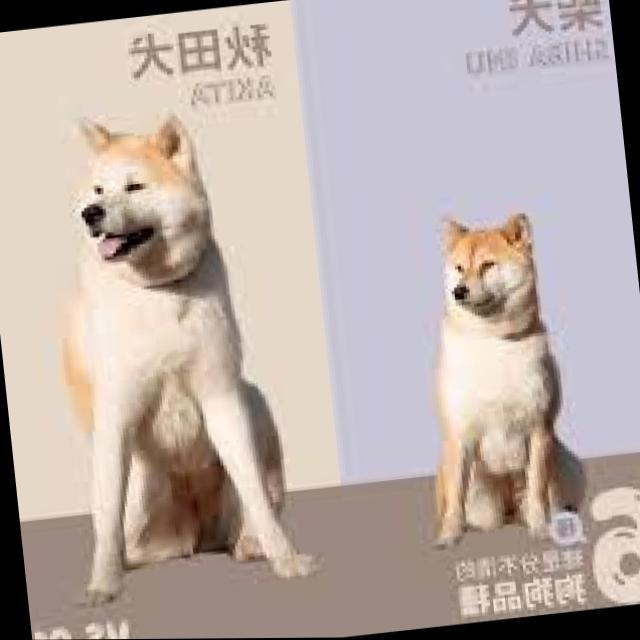Shiba-Inu: (397, 206, 588, 556)
